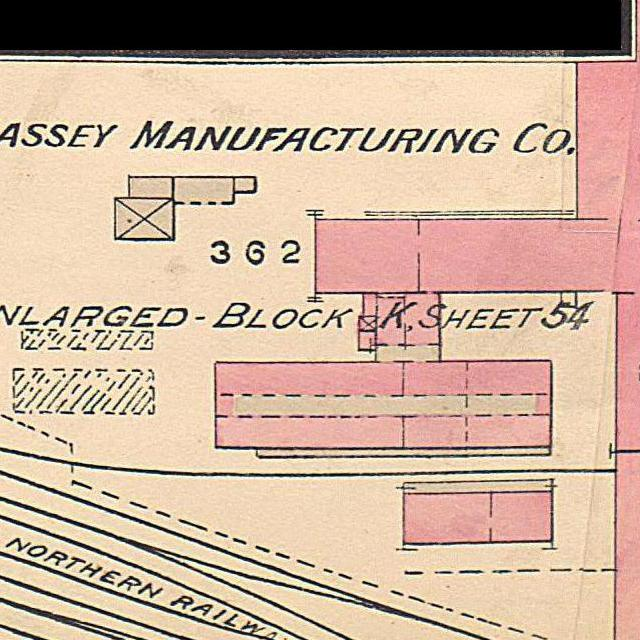building-footprints: (215, 292, 552, 447), (403, 493, 552, 541), (616, 452, 640, 640), (114, 198, 174, 240), (174, 177, 234, 204), (128, 177, 173, 199), (359, 330, 377, 350), (234, 177, 256, 193), (360, 316, 377, 330)
